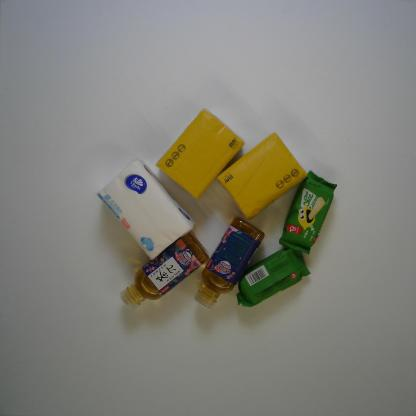Dessert: (278, 169, 338, 255), (235, 248, 312, 308)
Drink: (118, 230, 209, 312), (193, 217, 265, 311)
Tissue: (94, 158, 196, 260), (155, 107, 246, 201), (216, 132, 308, 221)
